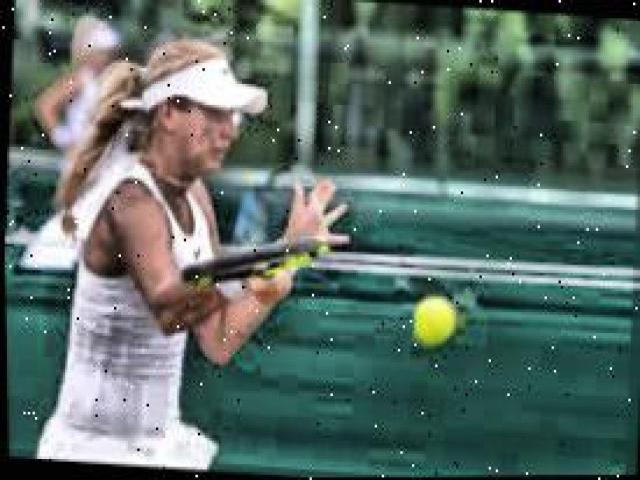tennis-ball: (411, 295, 456, 348)
